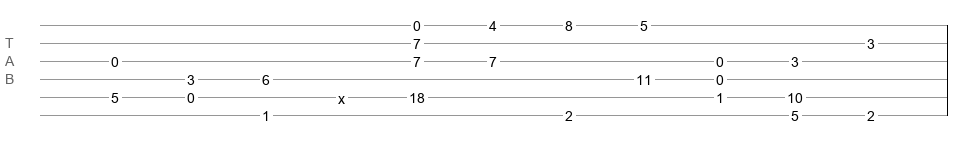0: (111, 54, 119, 64), (187, 90, 195, 100), (413, 18, 421, 28), (716, 54, 724, 64), (716, 72, 724, 82)
1: (262, 108, 270, 118), (716, 90, 724, 100)
10: (787, 90, 803, 100)
11: (636, 72, 652, 82)
18: (409, 90, 425, 100)
2: (565, 108, 573, 118), (867, 108, 875, 118)
3: (187, 72, 195, 82), (791, 54, 799, 64), (867, 36, 875, 46)
4: (489, 18, 497, 28)
5: (111, 90, 119, 100), (640, 18, 648, 28), (791, 108, 799, 118)
6: (262, 72, 270, 82)
7: (413, 36, 421, 46), (413, 54, 421, 64), (489, 54, 497, 64)
8: (565, 18, 573, 28)
x: (338, 91, 345, 99)
